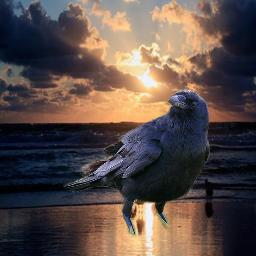Crow: (63, 89, 210, 237)
